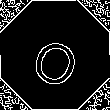O_N: (25, 23, 85, 87)
